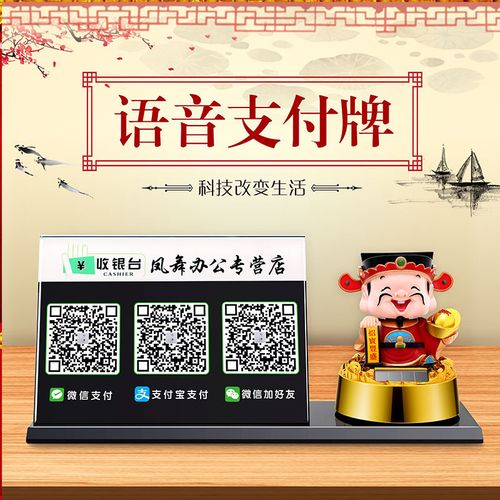QRCode: (220, 303, 298, 377), (132, 300, 209, 374), (47, 300, 121, 376)
